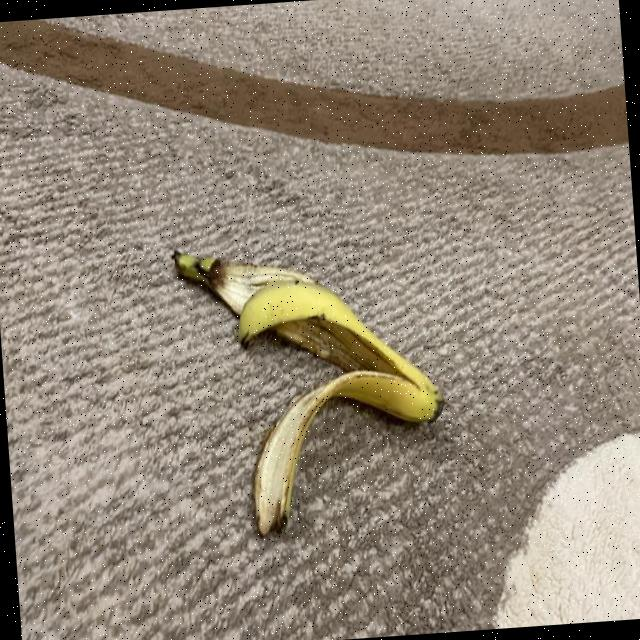banana-peel: (168, 229, 452, 543), (242, 362, 446, 537)
